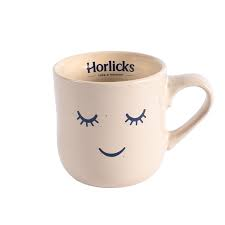mug: (47, 51, 216, 188)
